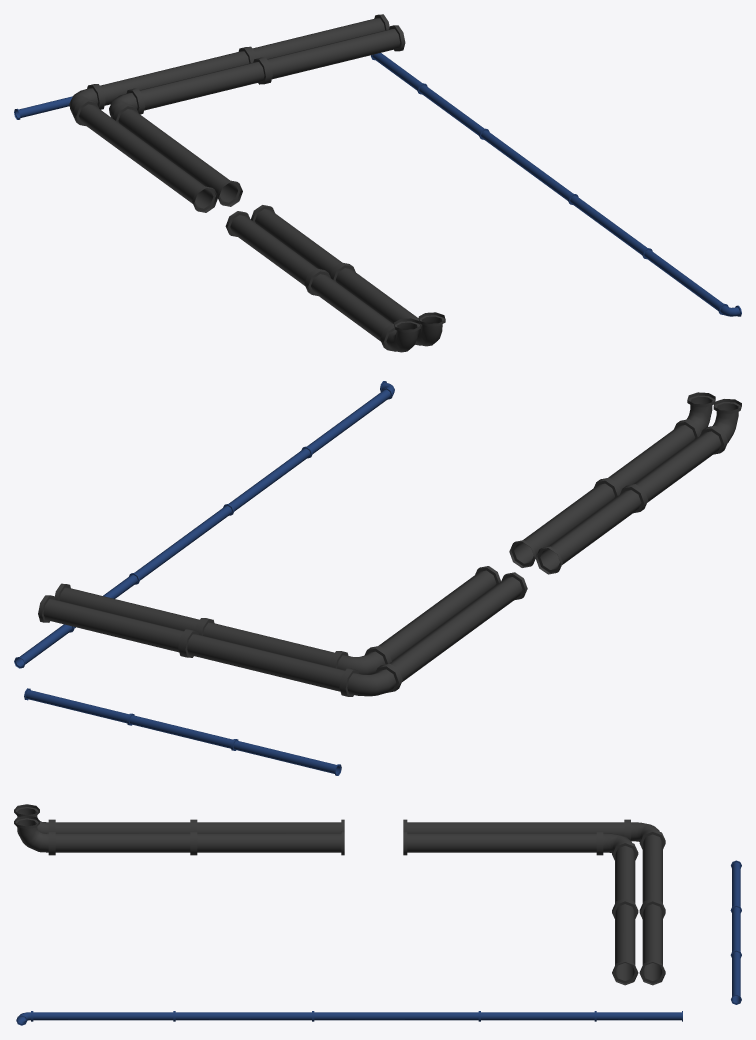
Rendered from SM_H_Building_Tide_Canteen_06A_ATLAS.fbx.
3 views of the same model, one above another, from view 1: azimuth 30°, elevation 25°; view 2: azimuth 150°, elevation 25°; view 3: azimuth 270°, elevation 25° (orthographic). The views are drawn at different scales.
Parts seen in each view (by area): view 1: SM_H_Building_Tide_Canteen_06A_ATLAS; view 2: SM_H_Building_Tide_Canteen_06A_ATLAS; view 3: SM_H_Building_Tide_Canteen_06A_ATLAS.
Part boxes in pixels (x1=…): SM_H_Building_Tide_Canteen_06A_ATLAS: x1=14, y1=14, x2=741, y2=352; SM_H_Building_Tide_Canteen_06A_ATLAS: x1=14, y1=381, x2=741, y2=775; SM_H_Building_Tide_Canteen_06A_ATLAS: x1=14, y1=804, x2=741, y2=1025.
Bounding box in the file's own units: 628 × 1242 × 124.
